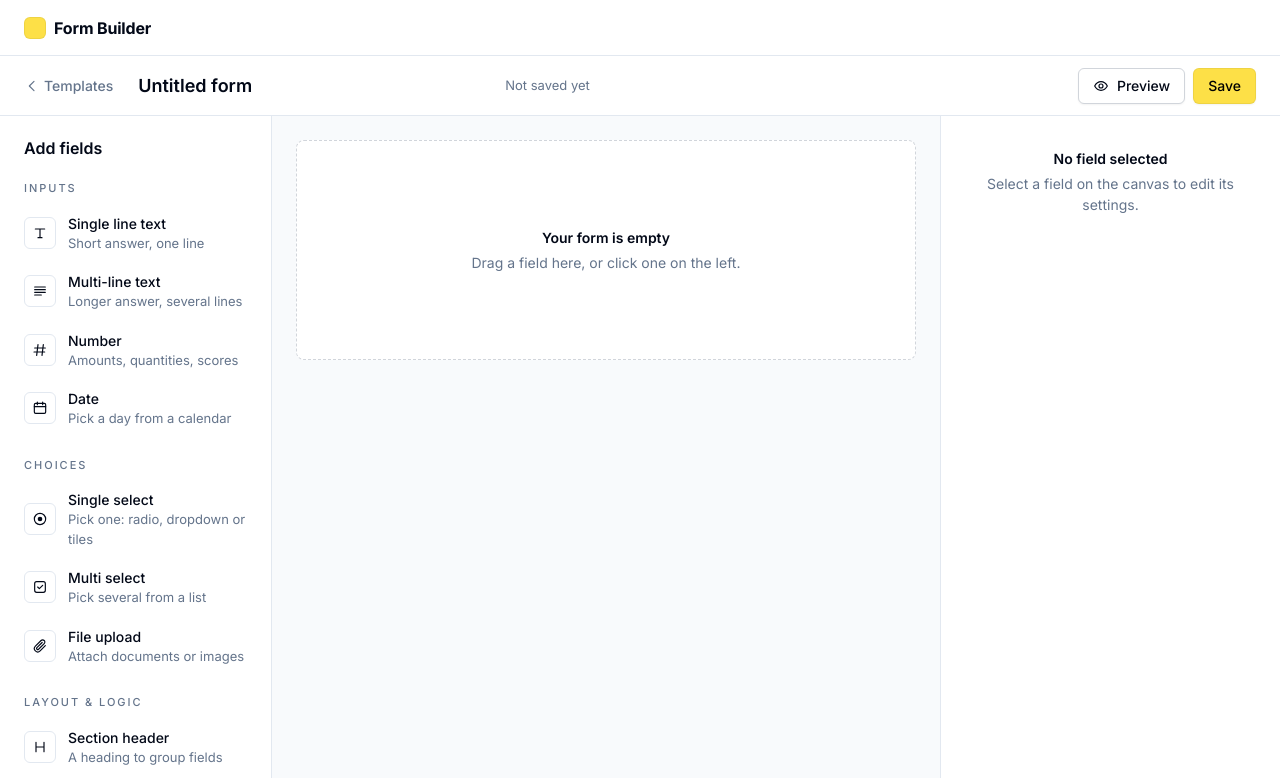
Test: saving › Save is blocked with a reason when the form has no fields
Click the button "Save" at (1225, 86), box [1193, 68, 1256, 104]
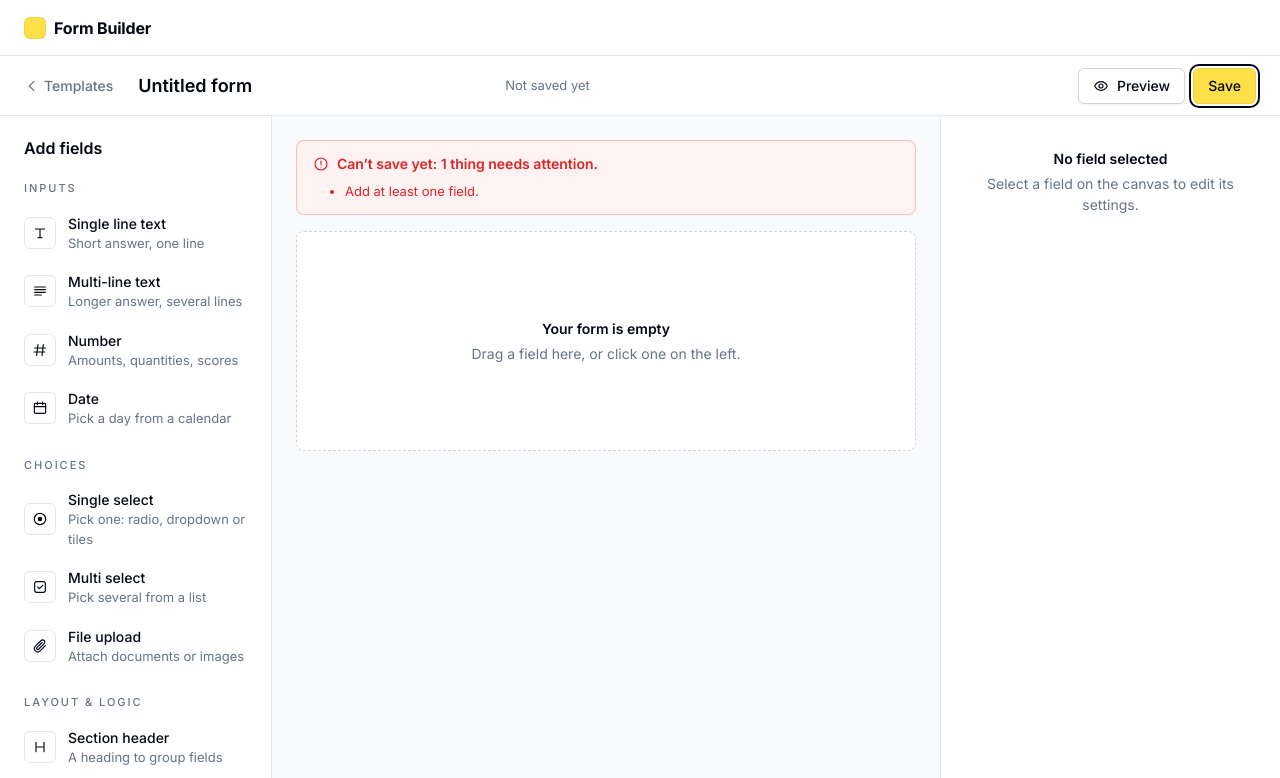
Expected: the message shows "Add at least one field.", [345, 183, 479, 199]
